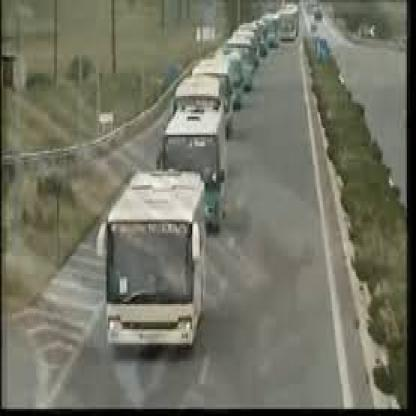car: (75, 162, 214, 362), (153, 97, 242, 227)
